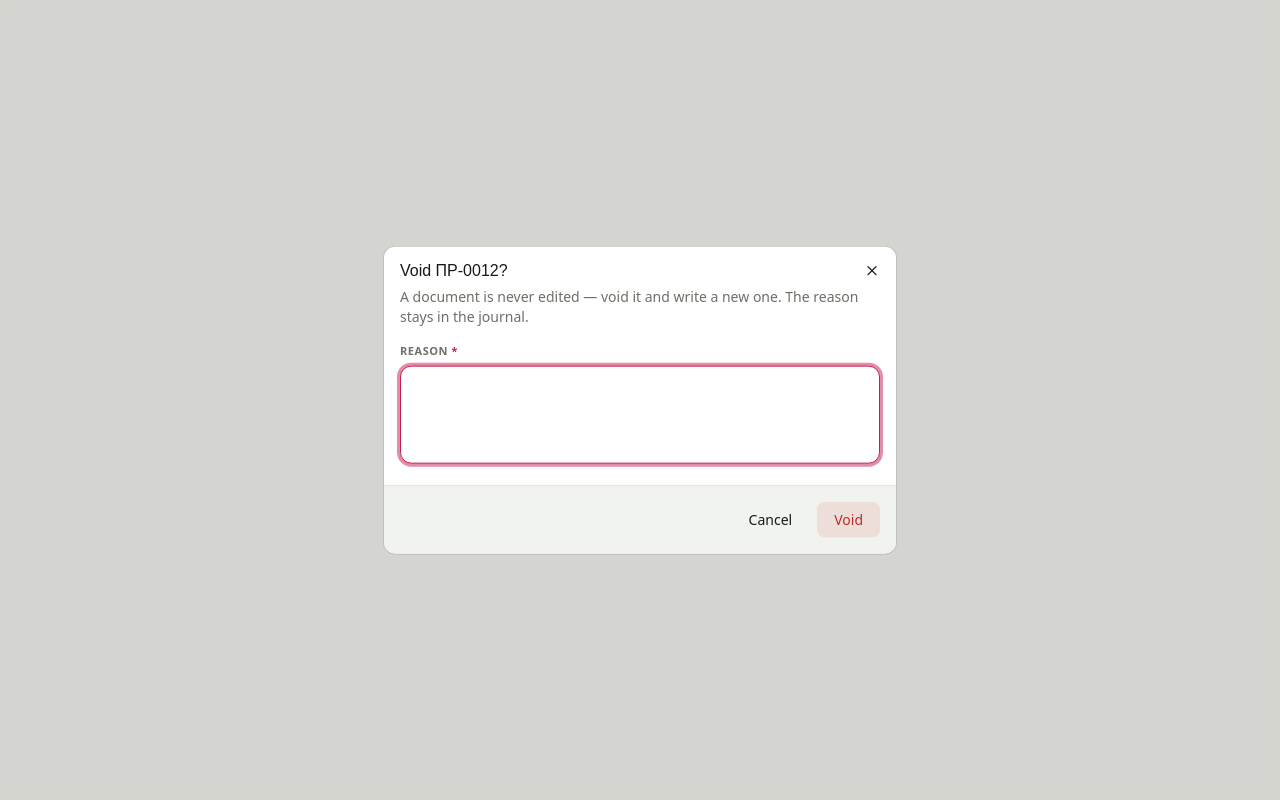
VoidDocumentDialog › shows the owner-only banner and stays open on NOT_YOUR_DOCUMENT
Type "помилка у вазі" into the text box labelled "Reason" at (640, 414), box [400,365,880,463]
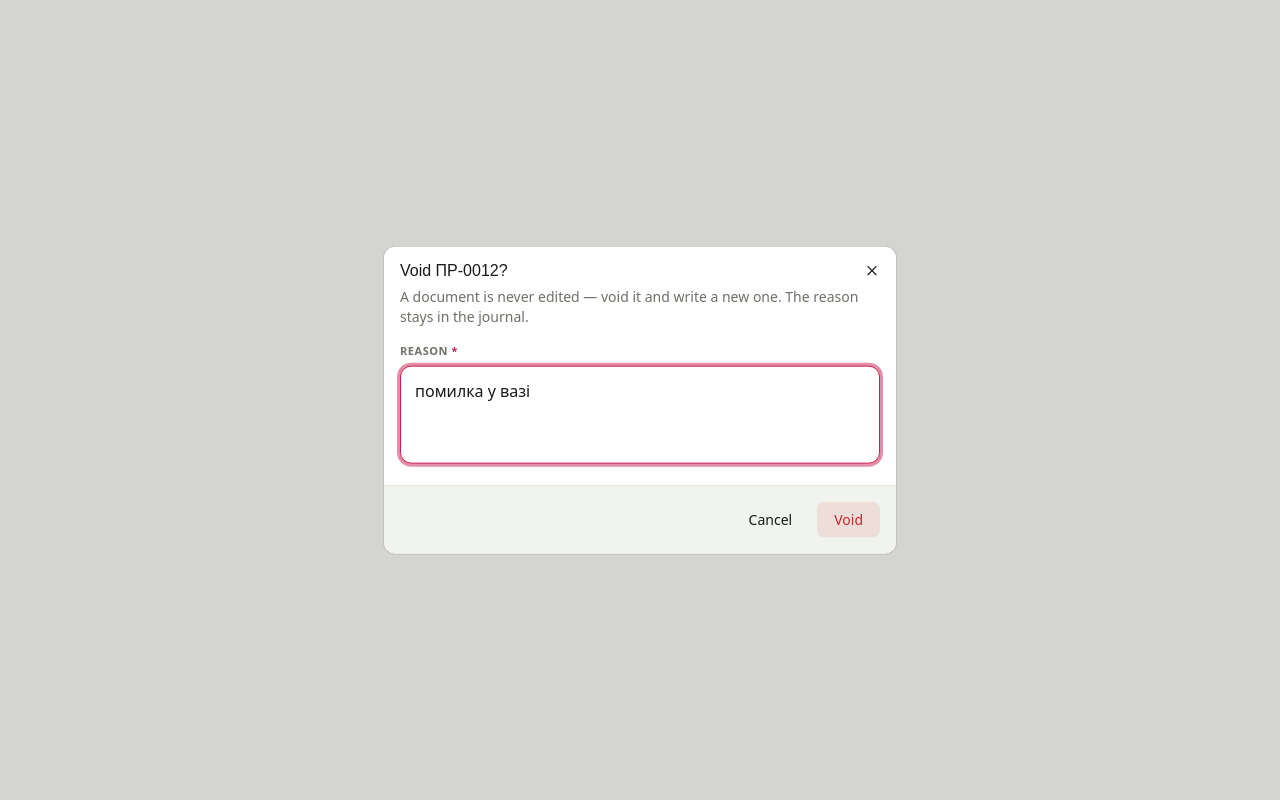
Click the button "Void" at (849, 519), box [817,501,880,537]
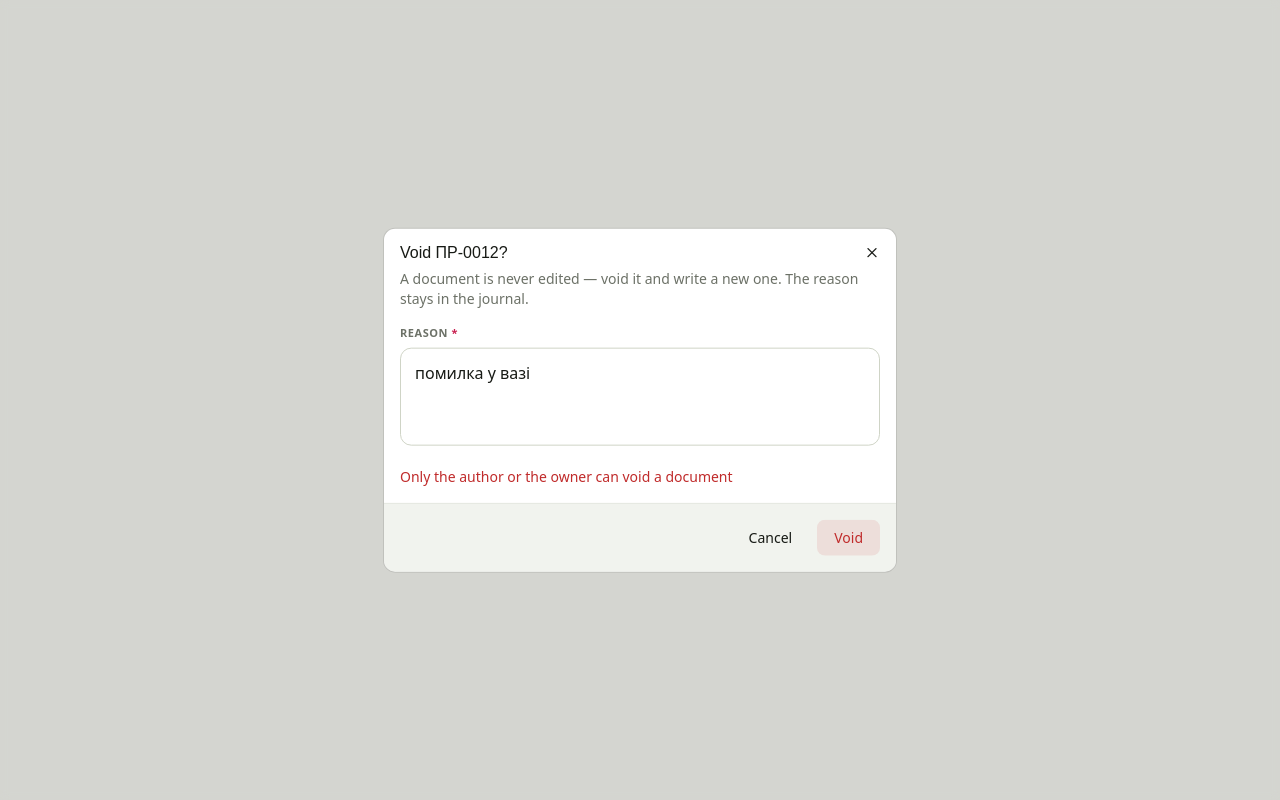
Expected: the text "Only the author or the owner can void a document" is shown, [400,466,733,485]
